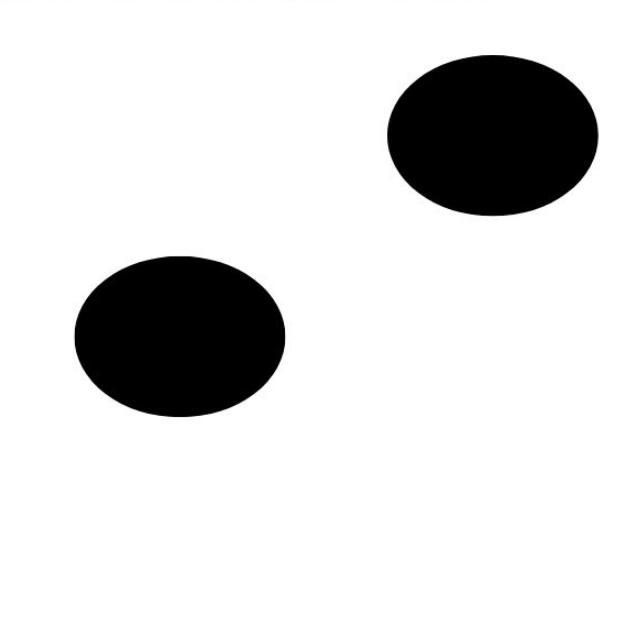letter_i: (74, 50, 602, 595)
